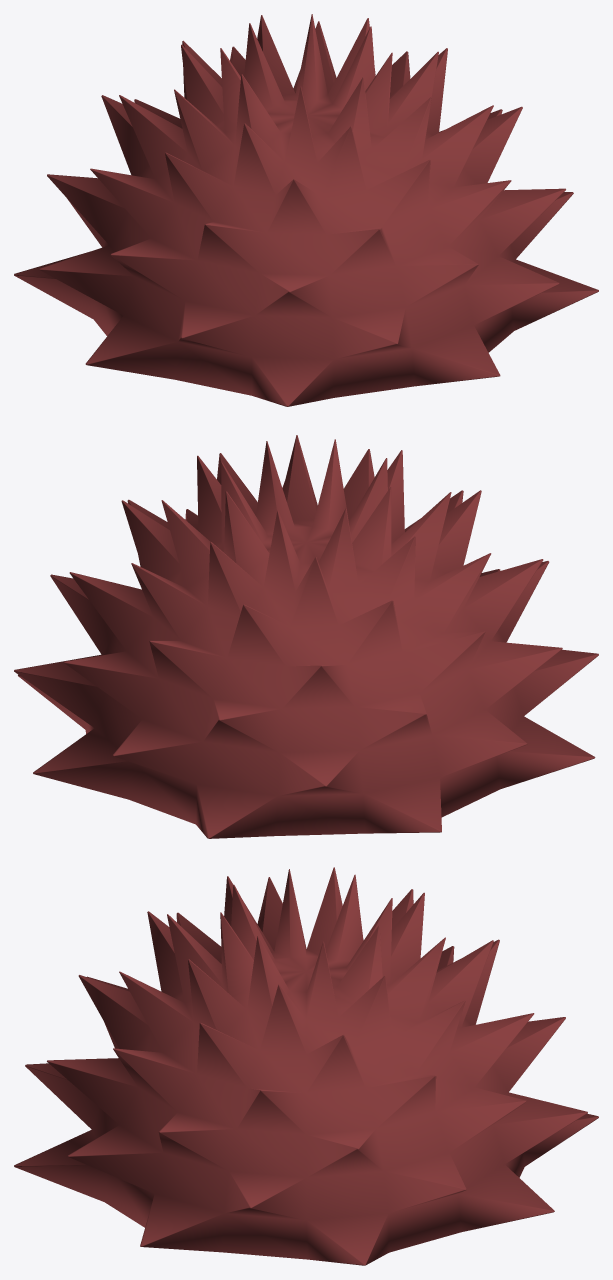
Rendered from spike.fbx.
3 views of the same model, one above another, from view 1: azimuth 30°, elevation 25°; view 2: azimuth 150°, elevation 25°; view 3: azimuth 270°, elevation 25° (orthographic). The views are drawn at different scales.
Parts seen in each view (by area): view 1: Sphere; view 2: Sphere; view 3: Sphere.
Boxes of the visible parts, x1,y1,x2,y2 form: Sphere: (14, 14, 598, 406); Sphere: (14, 435, 598, 838); Sphere: (14, 867, 598, 1265).
Size of the model in its own units: 192 by 94.85 by 192.
